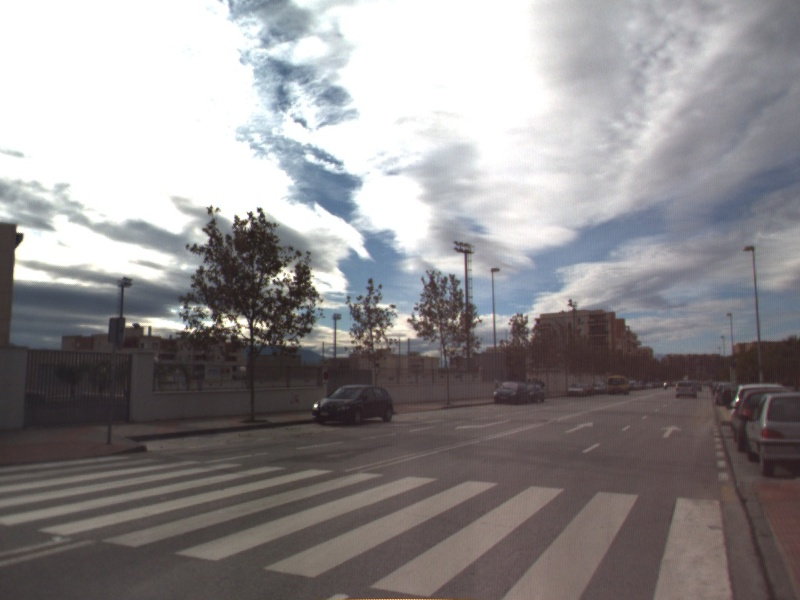STRAIGHT: (562, 420, 595, 435), (658, 423, 685, 440)
